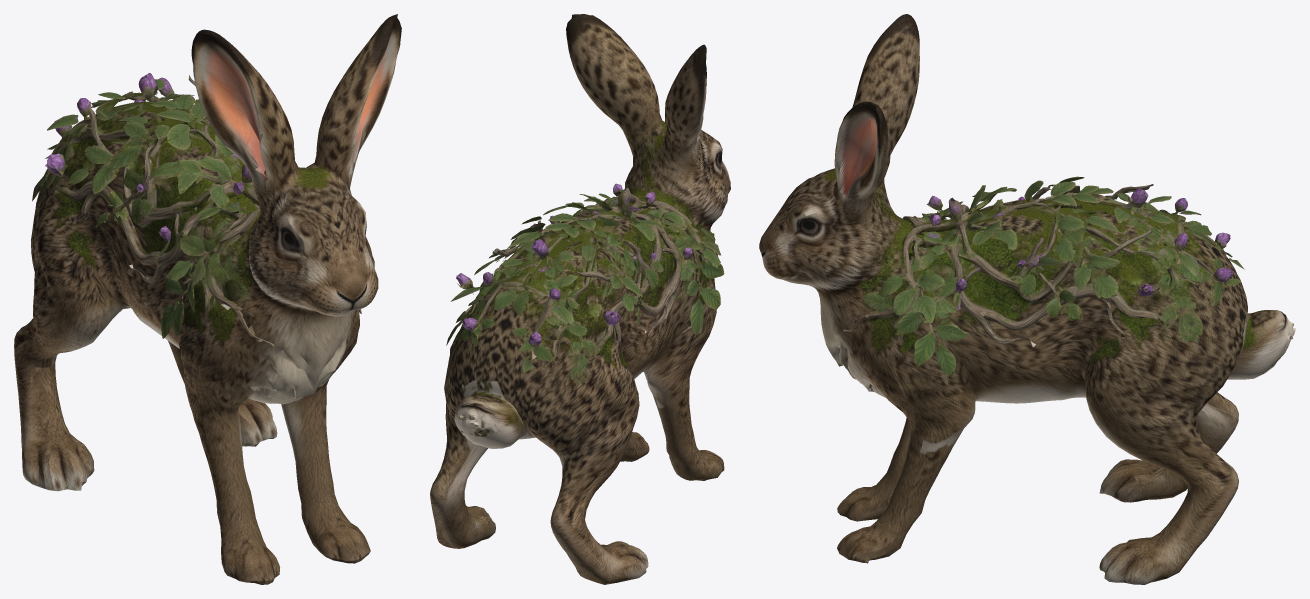
File: bramblebun.glb
3 renders of one model, left to right at view 1: azimuth 30°, elevation 25°; view 2: azimuth 150°, elevation 25°; view 3: azimuth 270°, elevation 25°, orthographic. The views are drawn at different scales.
Visible parts, largest first — view 1: Mesh_0; view 2: Mesh_0; view 3: Mesh_0.
Boxes of the visible parts, box(x1,y1,x2,y2) form: Mesh_0: box(14, 14, 401, 584); Mesh_0: box(430, 14, 730, 584); Mesh_0: box(759, 14, 1295, 584).
Size of the model in its own units: 0.9069 by 1.89 by 1.89.
1 material, 1 textured.
